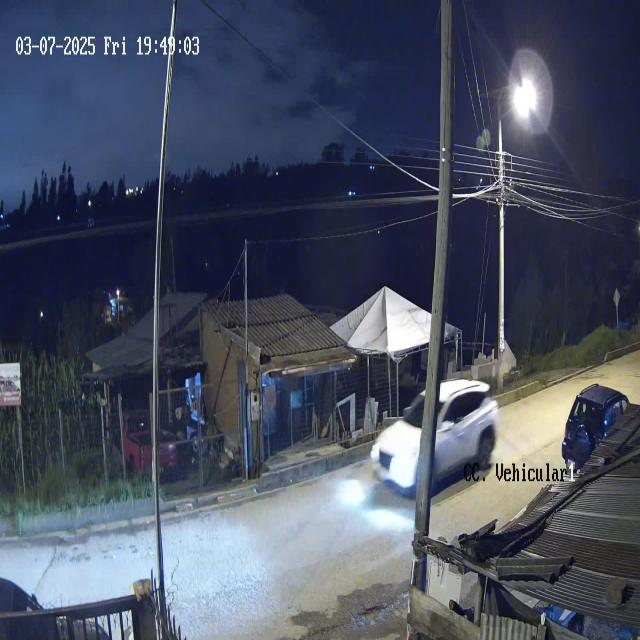SUV: (370, 376, 498, 499)
